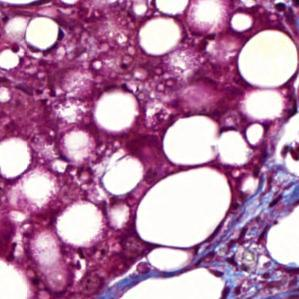steatosis: (135, 167, 232, 246)
